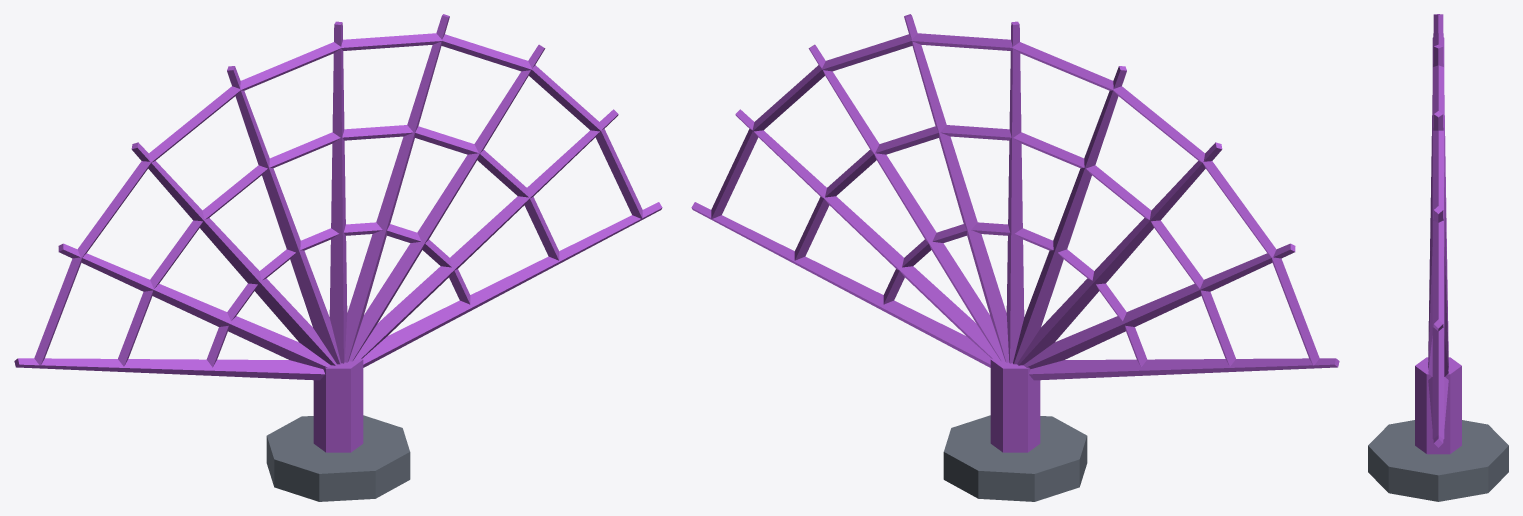
File: coral_fan.glb
The picture shows the model from 3 angles, left to right: view 1: azimuth 30°, elevation 25°; view 2: azimuth 150°, elevation 25°; view 3: azimuth 270°, elevation 25°; orthographic projection. The views are drawn at different scales.
Parts seen in each view (by area): view 1: coral_fan; view 2: coral_fan; view 3: coral_fan.
Boxes of the visible parts, x1,y1,x2,y2 form: coral_fan: [14, 14, 662, 501]; coral_fan: [691, 14, 1339, 501]; coral_fan: [1368, 14, 1508, 501].
Size of the model in its own units: 1.21 by 0.8 by 0.24.
